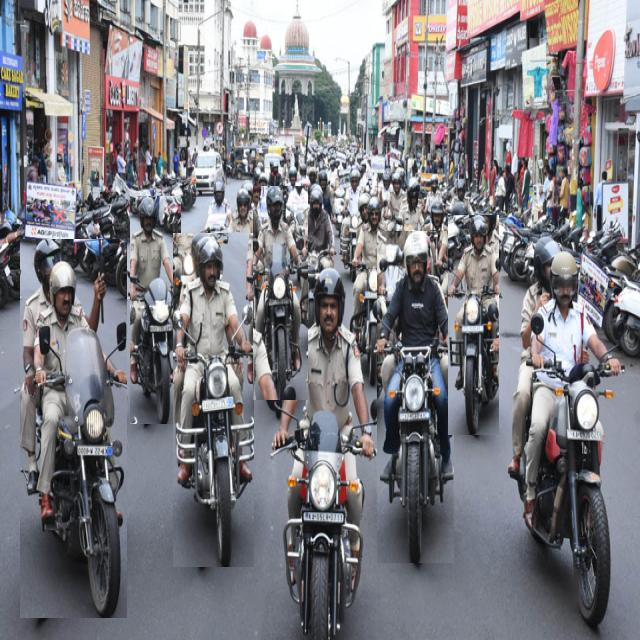car: (194, 151, 224, 192)
motorcycle: (509, 236, 621, 627), (272, 267, 381, 638), (21, 240, 127, 618), (174, 233, 254, 567), (378, 231, 454, 563), (130, 196, 181, 424), (254, 187, 308, 400), (449, 215, 499, 435), (23, 325, 35, 352)
